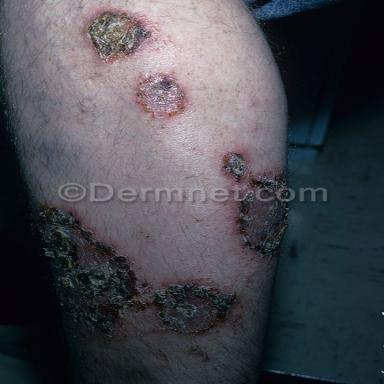Impetigo: (37, 206, 238, 335), (87, 11, 156, 62), (238, 201, 288, 255), (220, 152, 287, 188), (137, 74, 186, 118)
